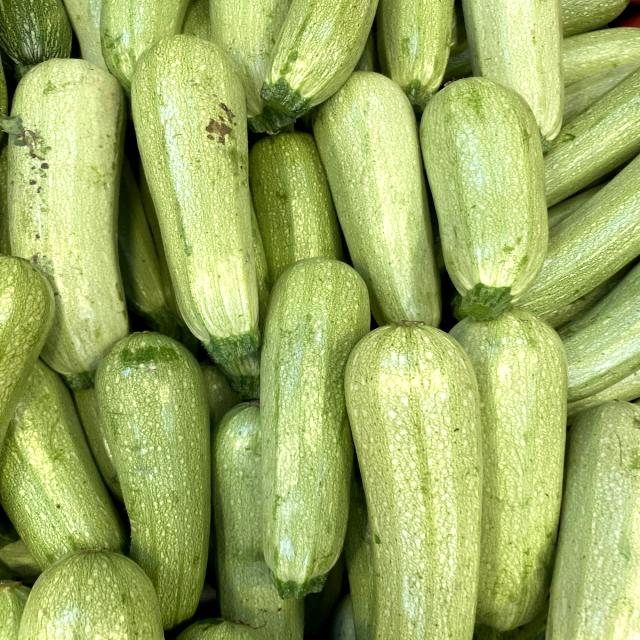zucchini: (233, 246, 403, 608), (129, 29, 291, 381), (0, 50, 143, 390), (406, 74, 558, 325)
